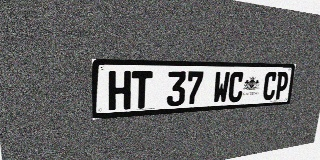3: (166, 71, 186, 107)
7: (185, 71, 204, 106)
C: (227, 72, 245, 103), (262, 72, 278, 100)
H: (109, 71, 131, 111)
P: (274, 72, 289, 100)
T: (131, 71, 153, 109)
W: (212, 71, 230, 104)
